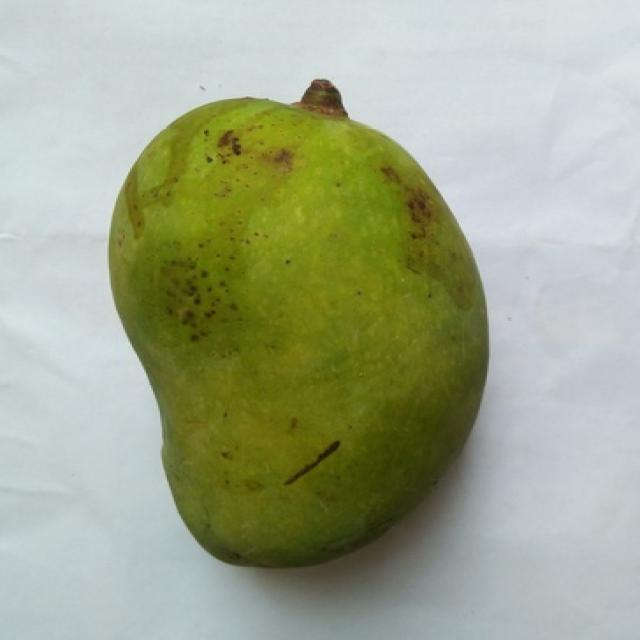Mango: (109, 81, 487, 566)
